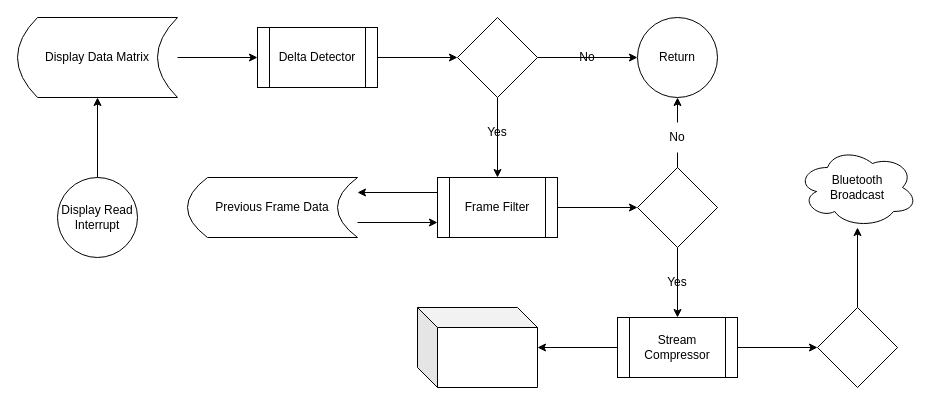
Some shapes in this 935 by 405 pixel diagram are drawn without their labels. Each missing label, with the centre of its shape:
"Connected?" goes at point (857, 347).
"Delta?" goes at point (497, 57).
"NVRAM" goes at point (477, 347).
"Select?" goes at point (677, 207).
